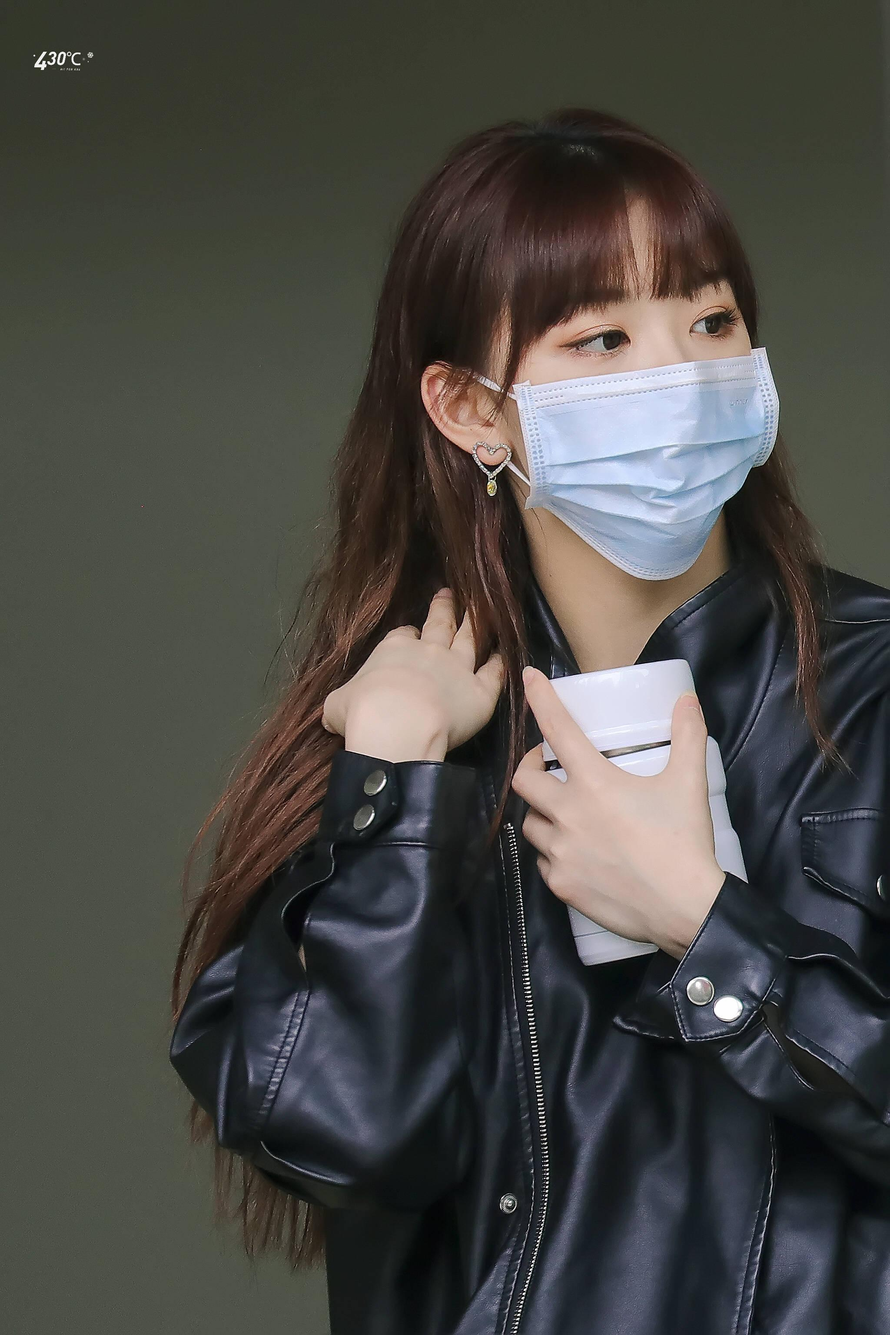OK: (516, 245, 766, 582)
